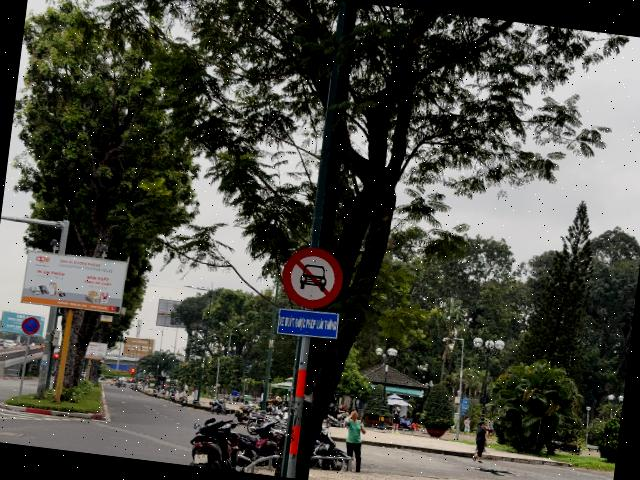cam-o-to: (277, 244, 346, 312)
